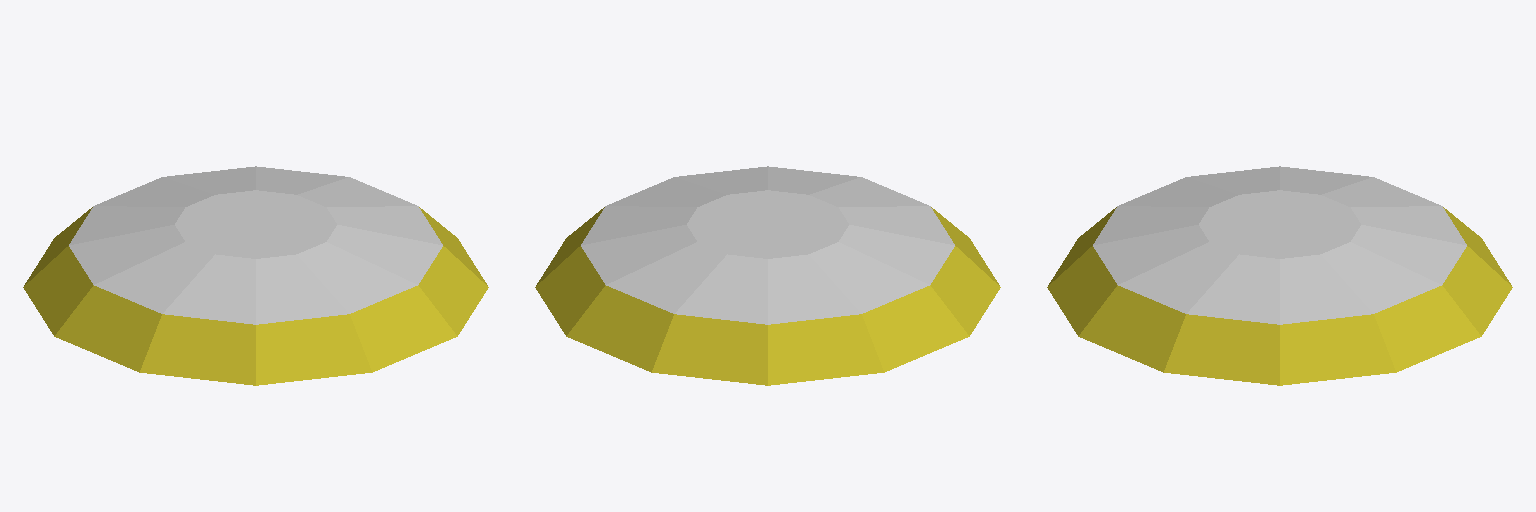
The model's file is lamp.obj.
3 renders of one model, left to right at view 1: azimuth 30°, elevation 25°; view 2: azimuth 150°, elevation 25°; view 3: azimuth 270°, elevation 25°, orthographic.
Parts seen in each view (by area): view 1: Cylinder; view 2: Cylinder; view 3: Cylinder.
Part boxes in pixels (left/top/right/bottom): Cylinder: left=23, top=166, right=488, bottom=385; Cylinder: left=535, top=166, right=1000, bottom=385; Cylinder: left=1047, top=166, right=1512, bottom=385.
Bounding box in the file's own units: 0.1663 × 0.0247 × 0.1663.